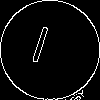I: (25, 25, 53, 73)
